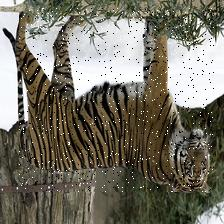tiger: (20, 7, 215, 191)
